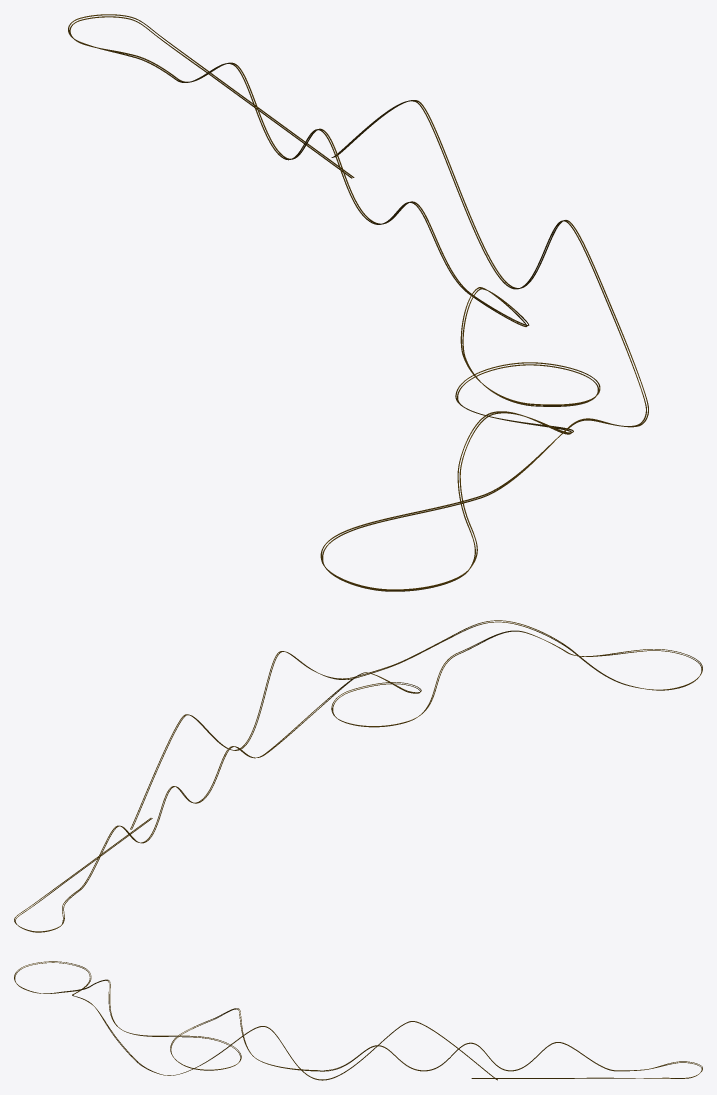
Rendered from Rail_bezier.fbx.
3 views of the same model, one above another, from view 1: azimuth 30°, elevation 25°; view 2: azimuth 150°, elevation 25°; view 3: azimuth 270°, elevation 25° (orthographic). The views are drawn at different scales.
Visible parts, largest first — view 1: Cube_side_thick_nurvcicle; view 2: Cube_side_thick_nurvcicle; view 3: Cube_side_thick_nurvcicle.
Part boxes in pixels (bbox=[...]): Cube_side_thick_nurvcicle: bbox=[68, 14, 648, 591]; Cube_side_thick_nurvcicle: bbox=[14, 620, 702, 932]; Cube_side_thick_nurvcicle: bbox=[14, 961, 702, 1080].
Size of the model in its own units: 14021 by 3550 by 37300.
